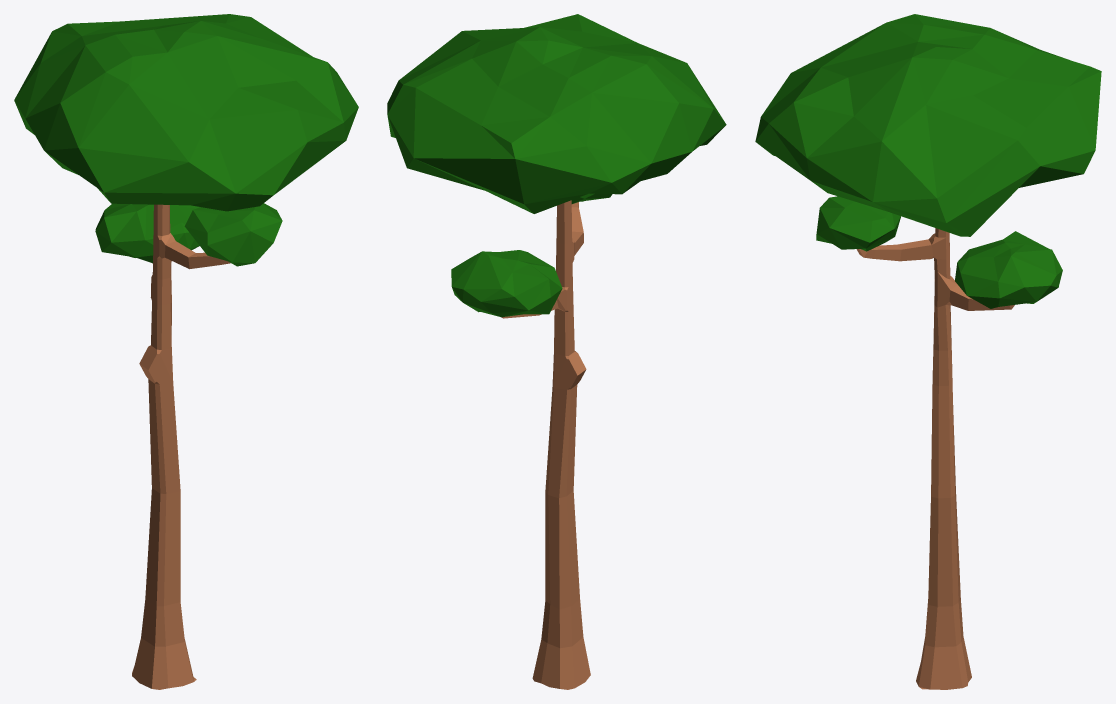
File: Tree2.2.fbx
3 renders of one model, left to right at view 1: azimuth 30°, elevation 25°; view 2: azimuth 150°, elevation 25°; view 3: azimuth 270°, elevation 25°, orthographic. The views are drawn at different scales.
Parts seen in each view (by area): view 1: Tree2.006; view 2: Tree2.006; view 3: Tree2.006.
Boxes of the visible parts, x1,y1,x2,y2 form: Tree2.006: [14, 14, 358, 689]; Tree2.006: [387, 14, 726, 689]; Tree2.006: [755, 14, 1101, 689].
Bounding box in the file's own units: 954 × 1932 × 948.
